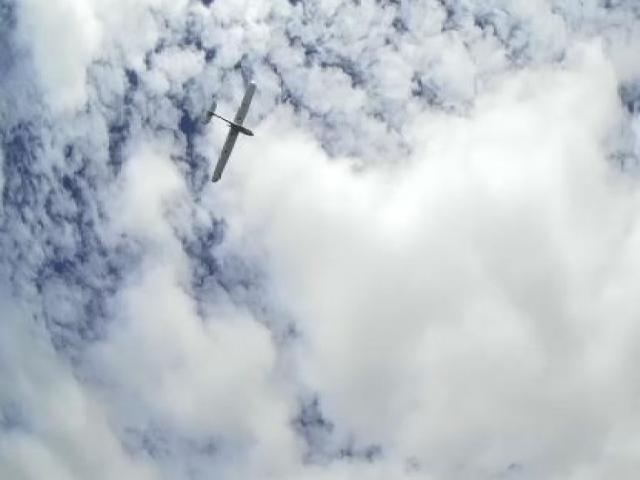uav: (193, 77, 270, 190)
